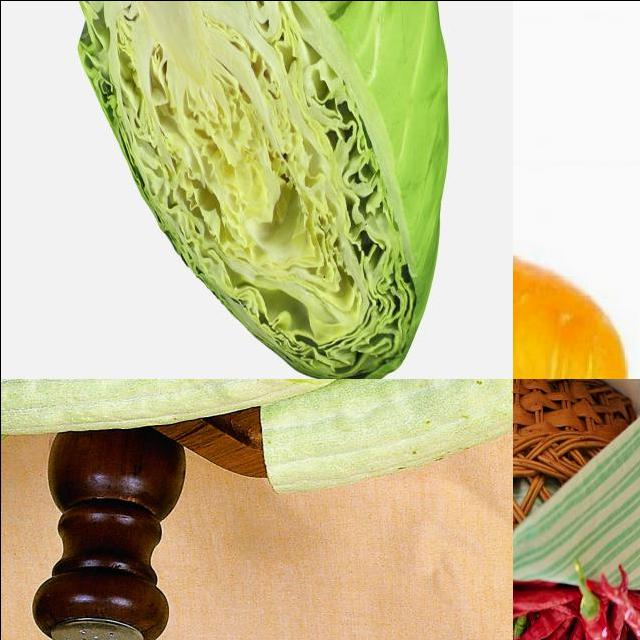cabbage: (68, 1, 452, 379)
carrot: (513, 22, 640, 379)
cucumber: (262, 379, 513, 499), (1, 379, 375, 435)
